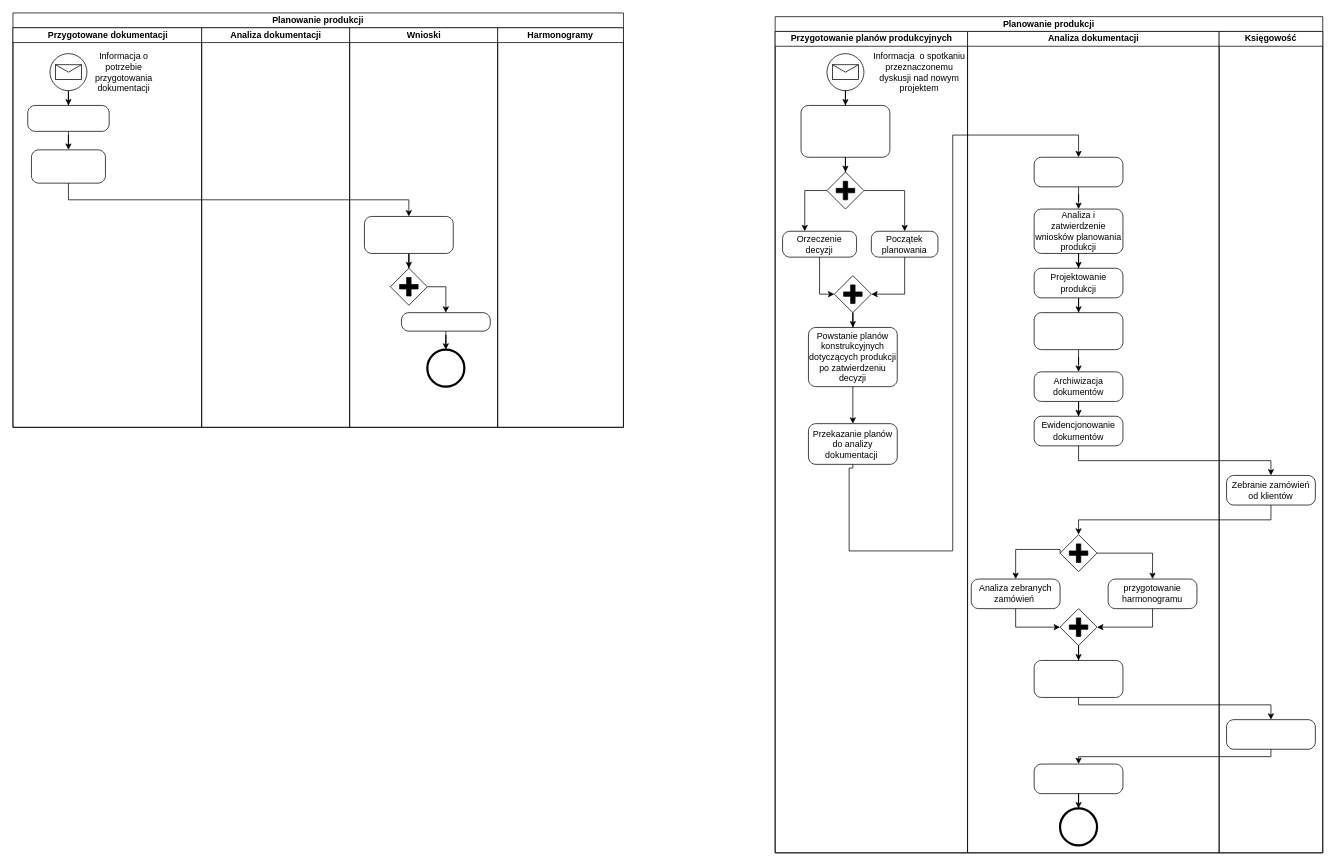
The diagram is 1336 pixels wide and 866 high, and some of its shapes have lost their labels. Each missing label, with the centre of its shape:
Analizacja dokumentacji przychodzącej: (x=1078, y=778)
Archiwizacja wniosku: (x=445, y=321)
Konsultacje dotyczące zapasów w magazynie: (x=1078, y=678)
Przekazanie dokumentacji inżynierskiej: (x=1078, y=331)
Przeniesienie dokumentu do wniosków: (x=68, y=166)
Przetwarzanie dokumentacji: (x=1078, y=172)
Spotkanie w celu dyskusji nad startem nowego planu produkcyjnego: (x=845, y=131)
Stworzenie wniosku D2 dokumentacji: (x=68, y=118)
Wprowadzenie dokumentu do systemu wniosków: (x=408, y=234)
Zakup brakujących materiałów: (x=1270, y=734)
